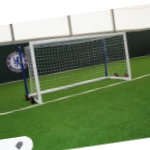goals: (24, 30, 135, 106)
